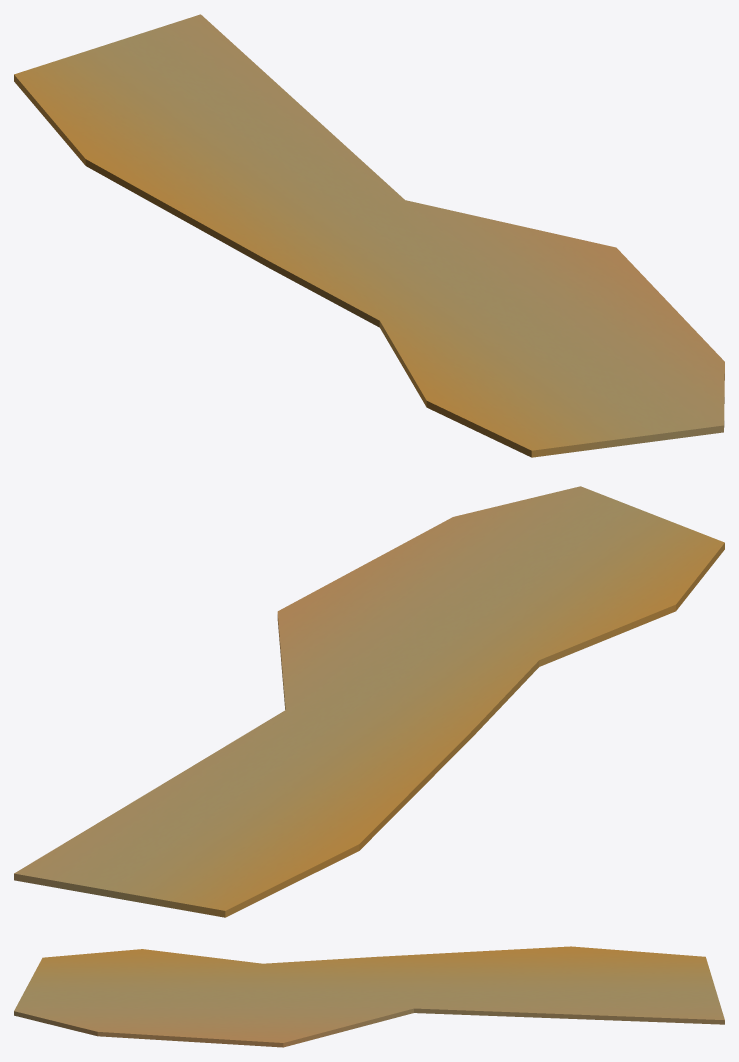
The model's file is Canyon_Ground_004.FBX.
3 views of the same model, one above another, from view 1: azimuth 30°, elevation 25°; view 2: azimuth 150°, elevation 25°; view 3: azimuth 270°, elevation 25° (orthographic). The views are drawn at different scales.
Visible parts, largest first — view 1: Canyon_Ground_004; view 2: Canyon_Ground_004; view 3: Canyon_Ground_004.
Part boxes in pixels (x1,y1,x2,y2): Canyon_Ground_004: (14,14,724,457); Canyon_Ground_004: (14,486,724,917); Canyon_Ground_004: (14,946,724,1047).
Size of the model in its own units: 925 by 20.07 by 2878.
Materials: 1 (1 with a texture image).
